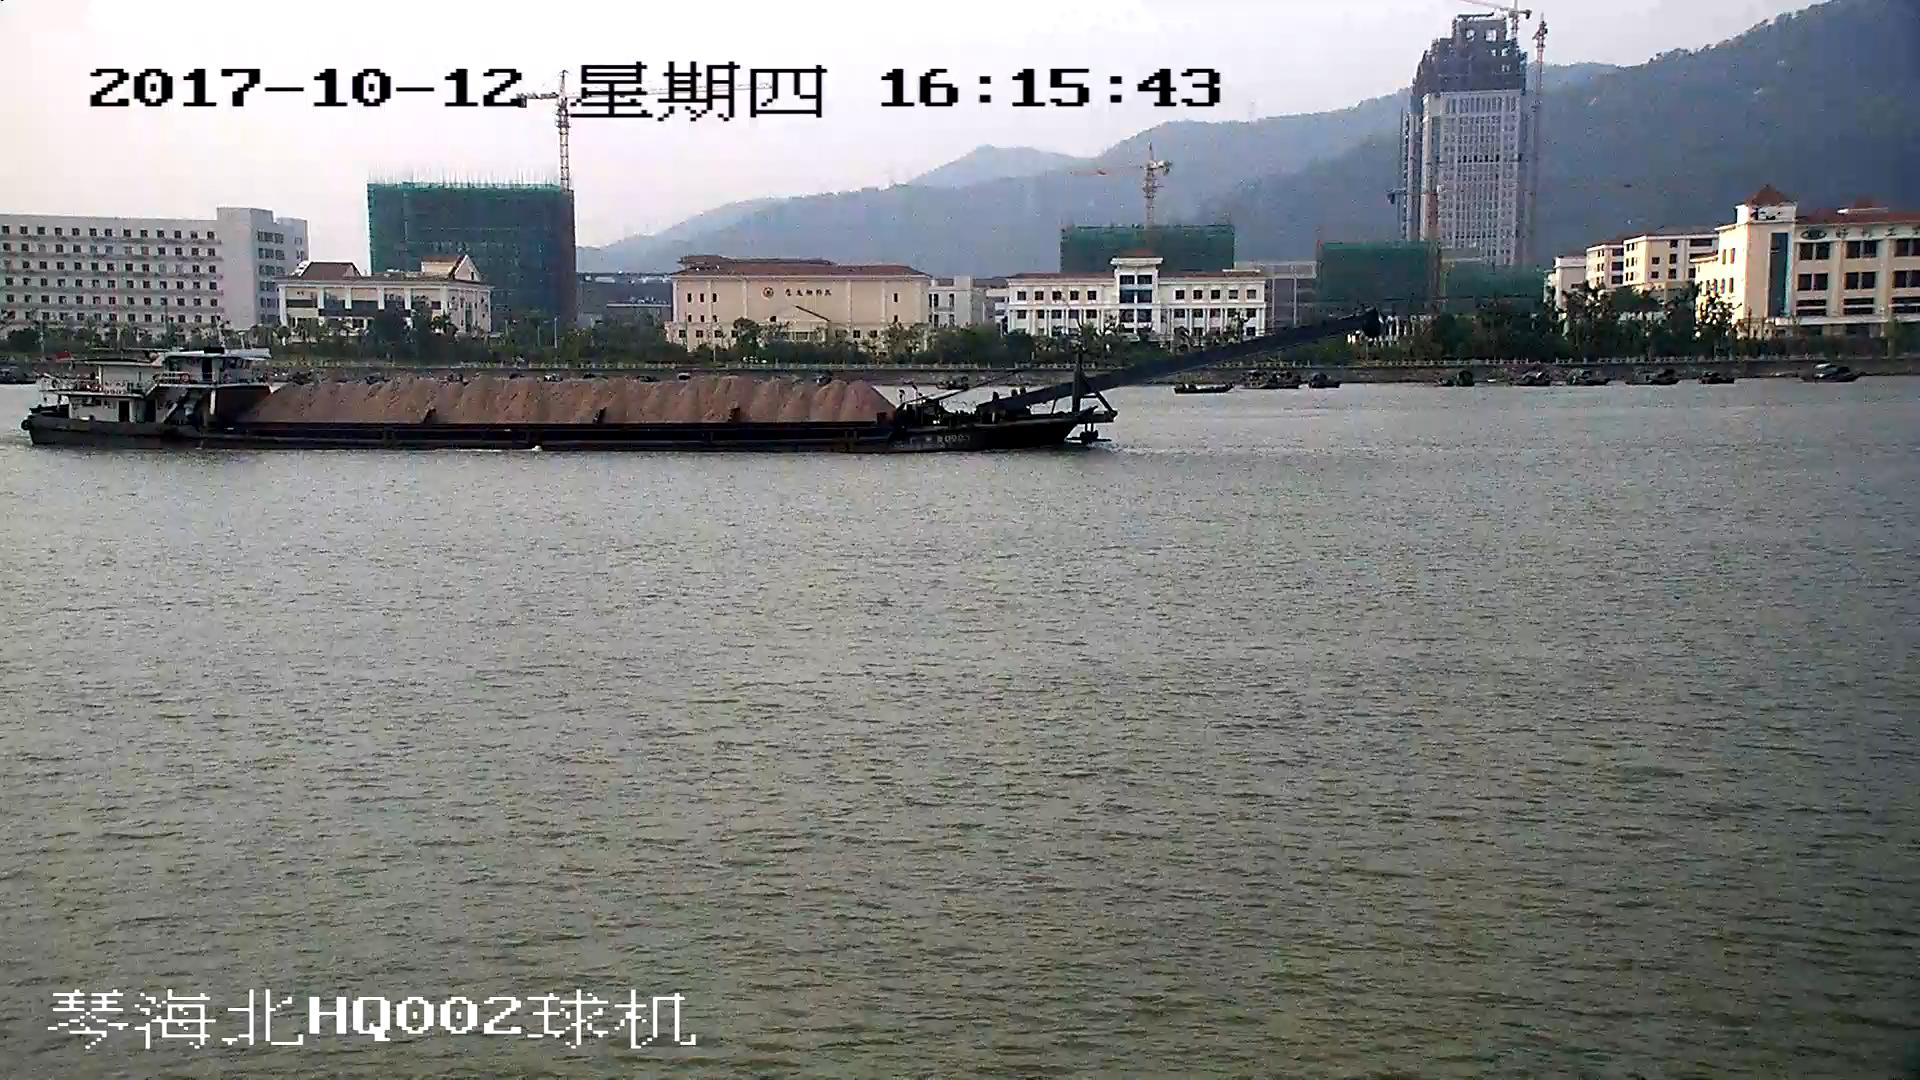ore carrier: (24, 309, 1377, 452)
